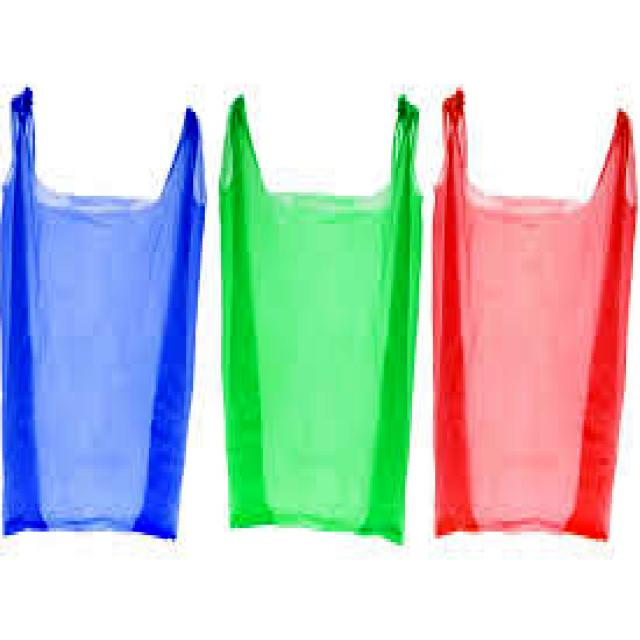Plastic: (0, 83, 208, 545), (214, 90, 426, 539), (428, 92, 637, 543)
